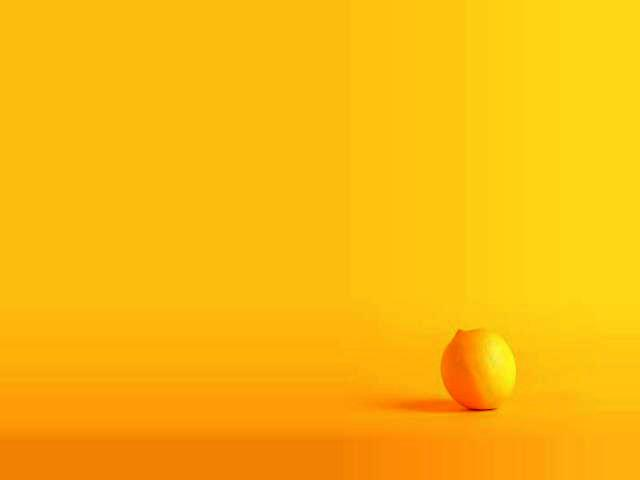lemon: (428, 318, 530, 416)
